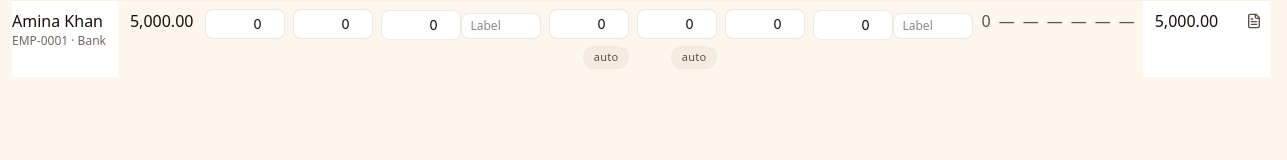
Test: PayrollLineEditor › keeps a rejected edit visible when a later edit succeeds, and sends one PATCH at a time
Replace the text in the number field named "Bonus for Amina Khan" with "9999999" at (422, 25), box [382,10,462,40]
Wait 610 ms
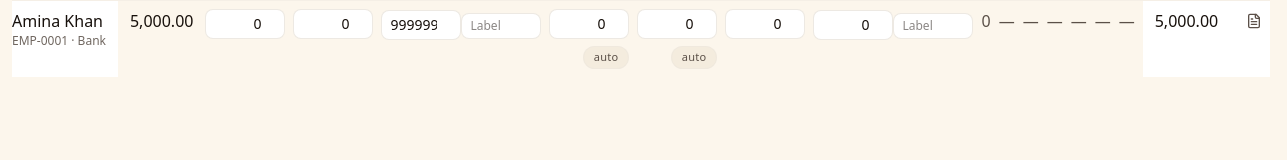
Replace the text in the number field named "Unpaid leave days for Amina Khan" with "2" at (590, 24), box [550,9,630,39]
Wait 610 ms
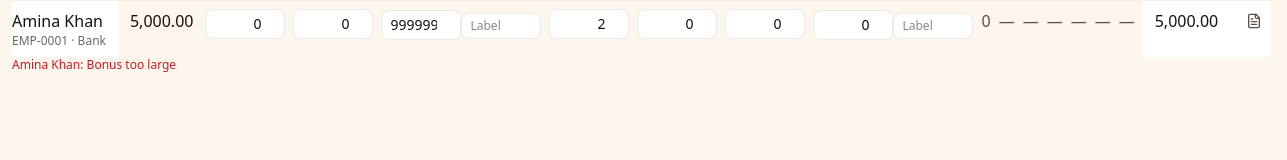
Expected: the message shows "Bonus too large", [87,56,176,73]
